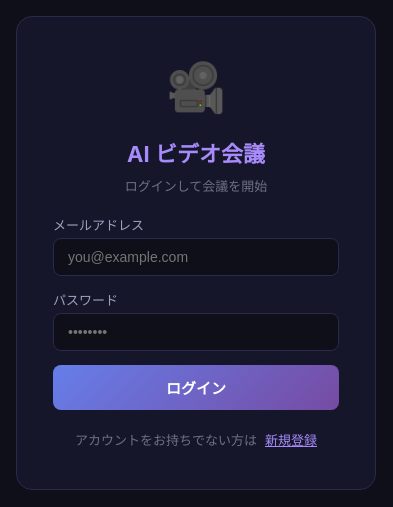
Test: LoginScreen › 「新規登録」リンクをクリックすると登録フォームに切り替わる
The width and height of the screenshot is (393, 507).
Click the button "新規登録": coordinates (291, 440) x1=265 y1=430 x2=317 y2=449
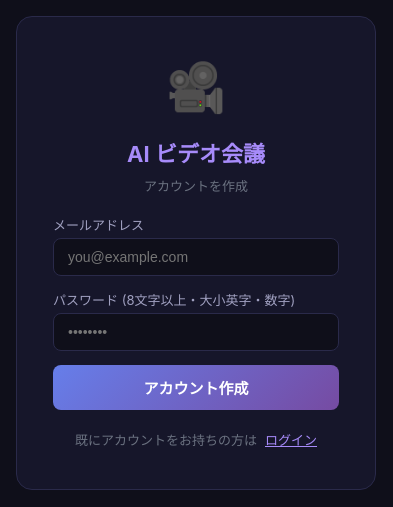
Result: the button "アカウント作成" is shown at x1=53 y1=365 x2=339 y2=410
